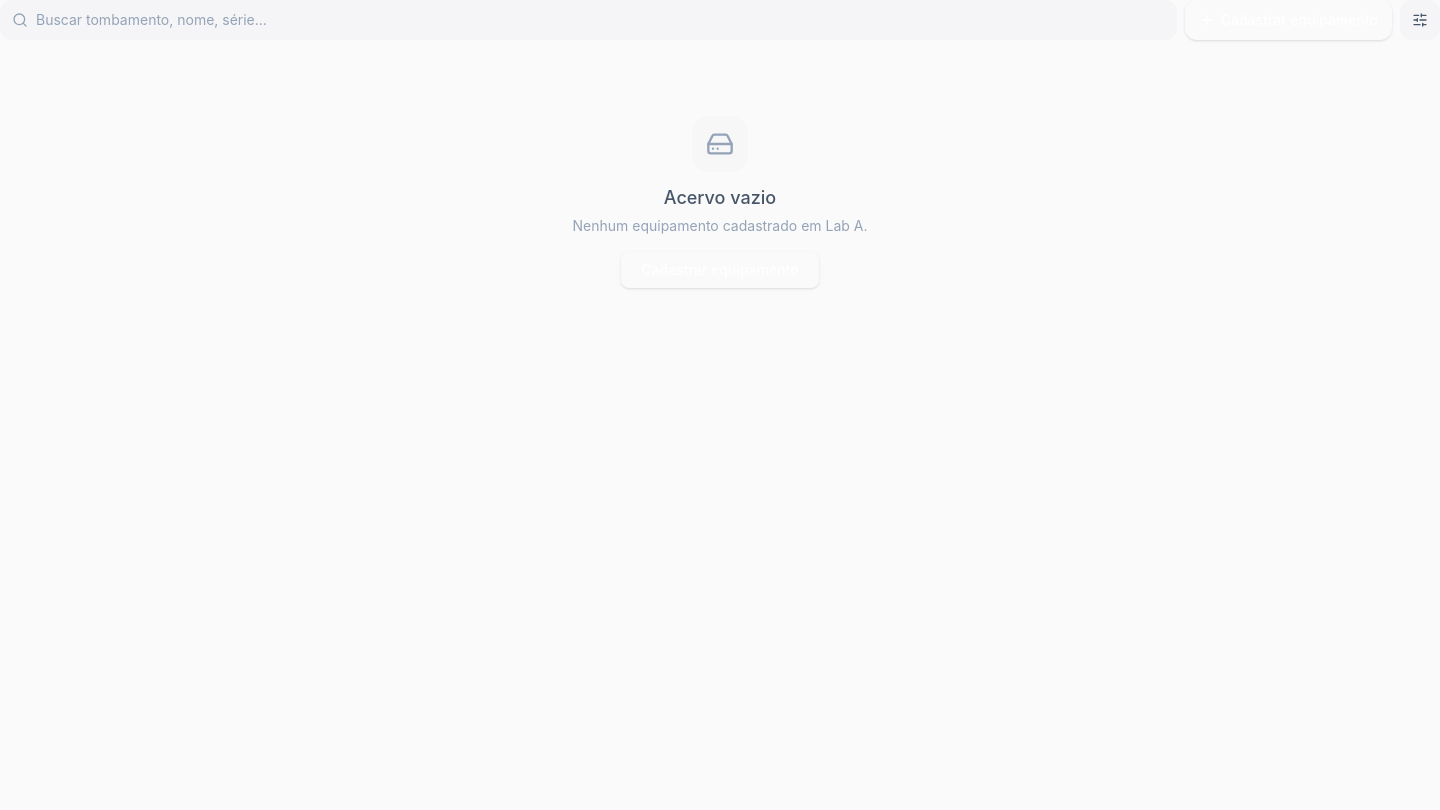
Scenario: StockEquipamentosListPage › abre e fecha painel de filtros
Step 1. Click the button named "Filtros" → (1420, 20), box [1400,0,1439,40]
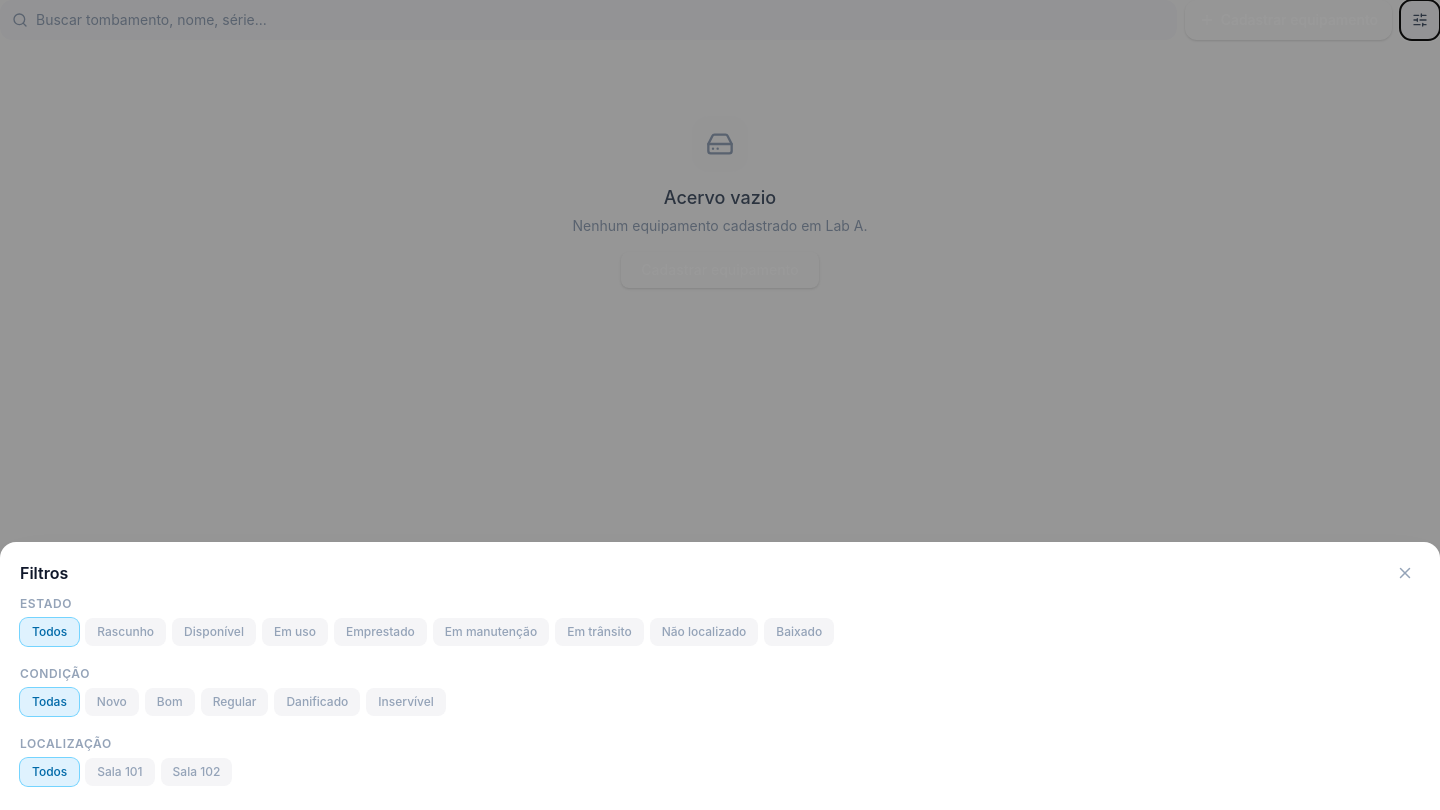
Expected: the text "Estado" is shown, [20,596,72,611]
Step 2. Click the button named "fechar" → (1405, 573), box [1390,558,1420,588]
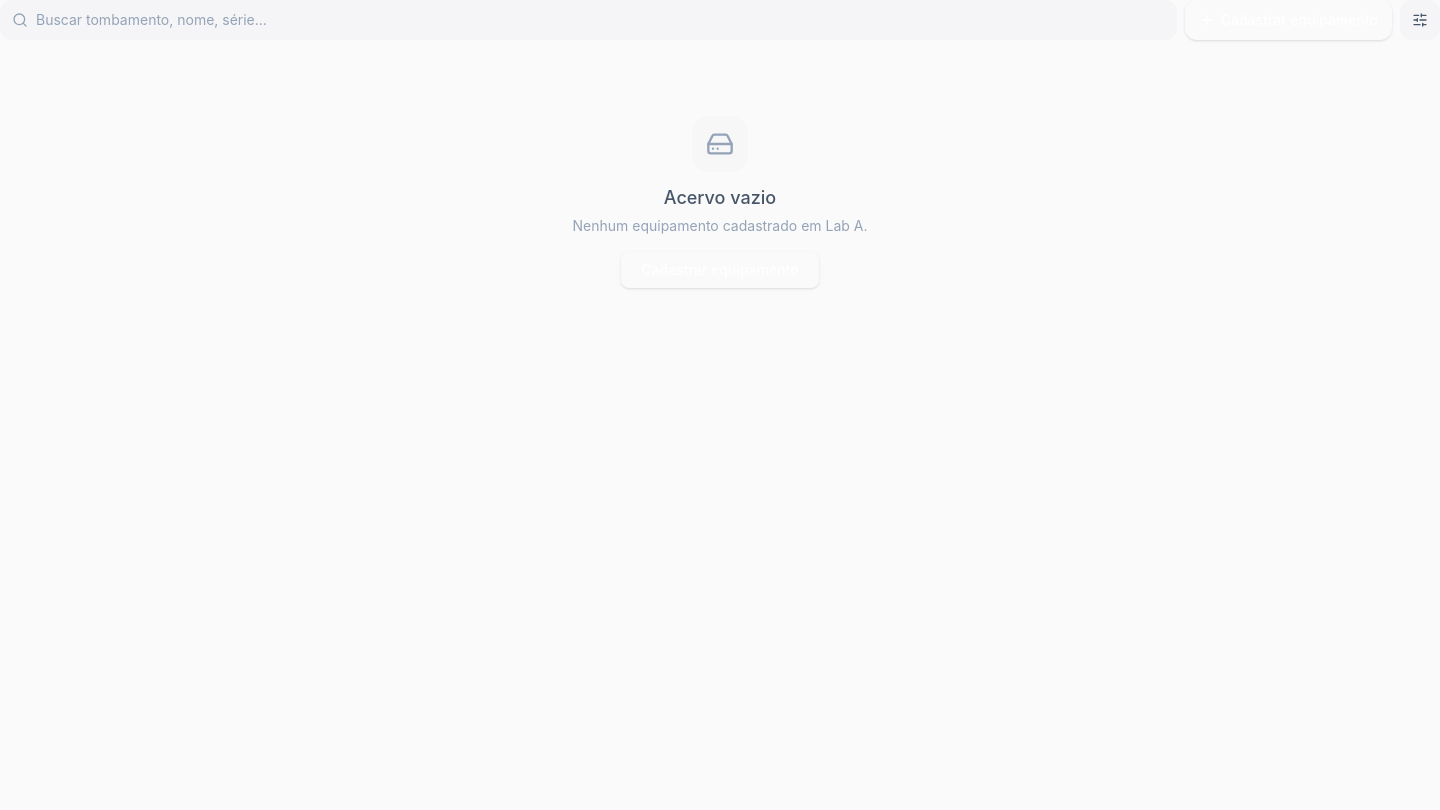
Expected: the text "Estado" is gone
